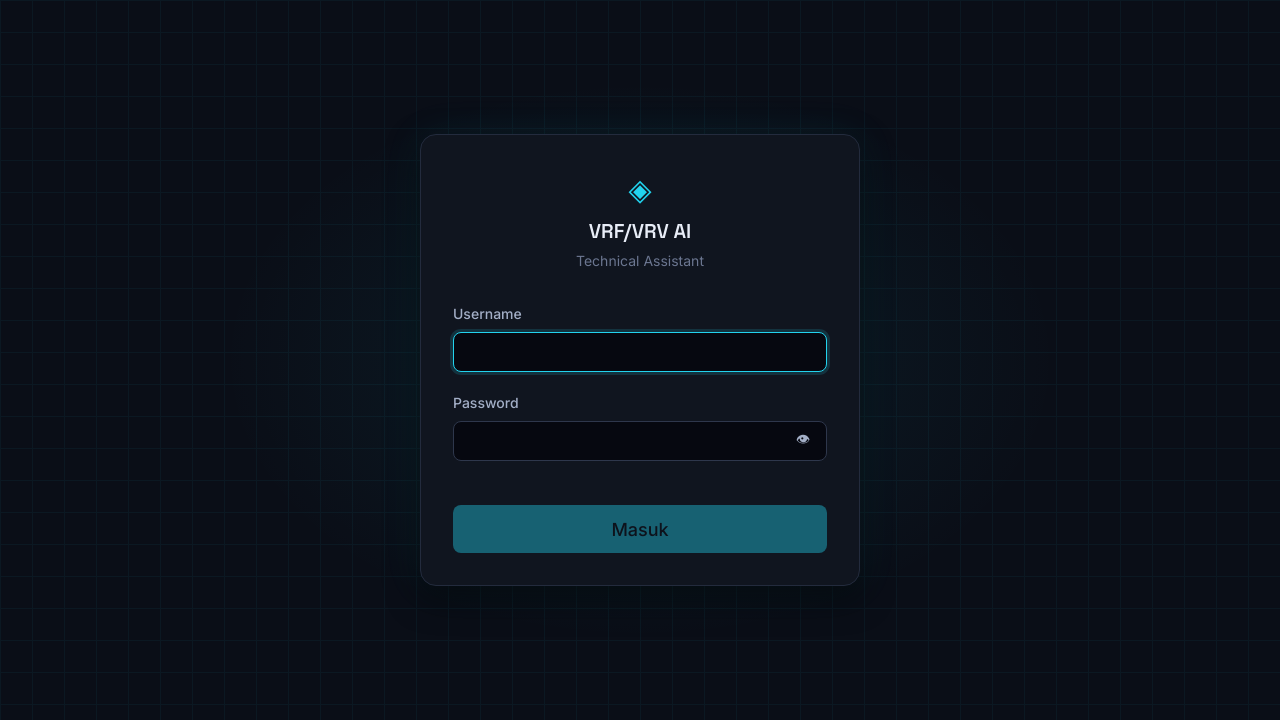
Test: LoginPage › shows the 401 alert, clears the password field, and does not navigate away
Step 1. Type "jalal" into the field labelled "Username" → (640, 352), box [453,332,827,372]
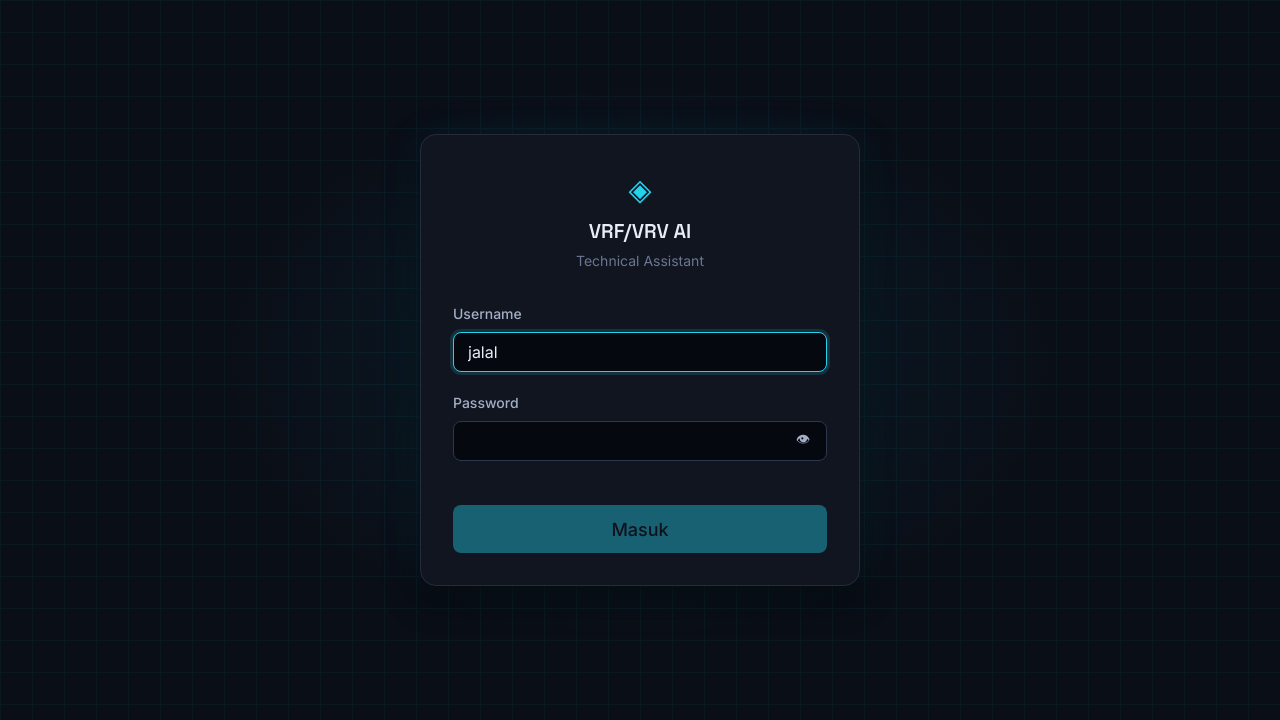
Step 2. Type "wrong-password" into the password field labelled "Password" → (640, 441), box [453,421,827,461]
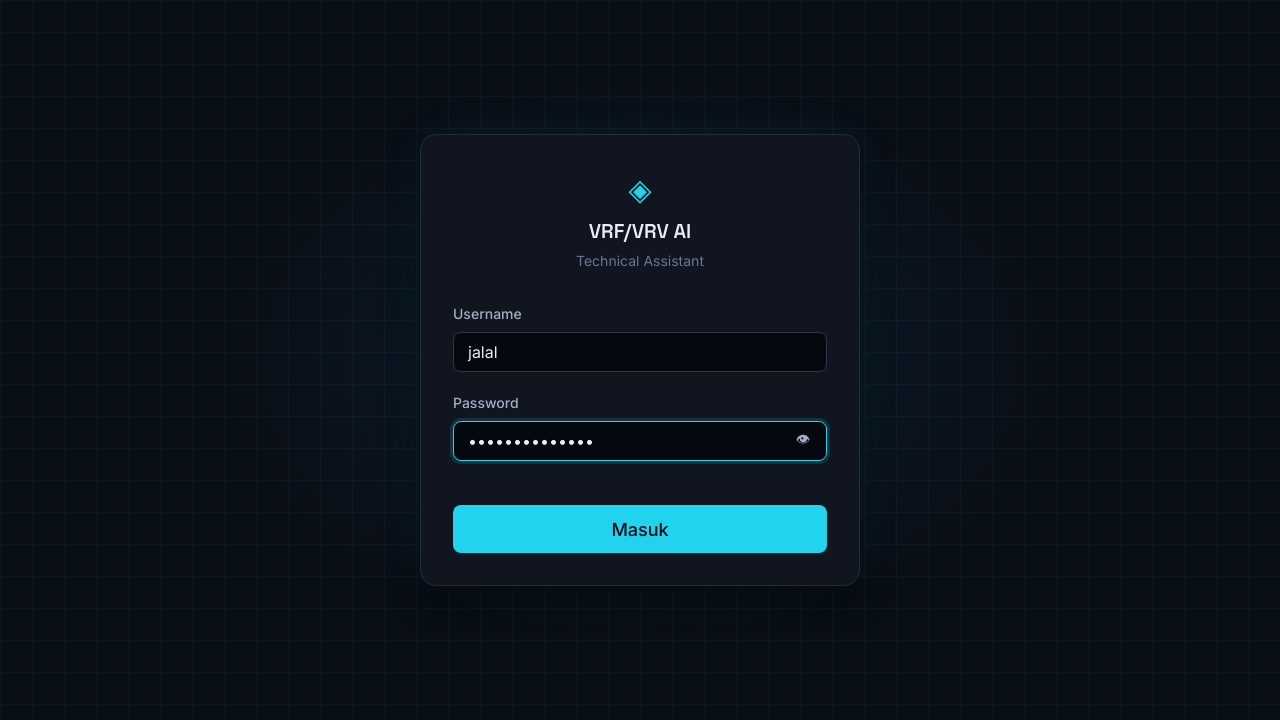
Step 3. Click the button "Masuk" → click(640, 529), box [453,505,827,553]
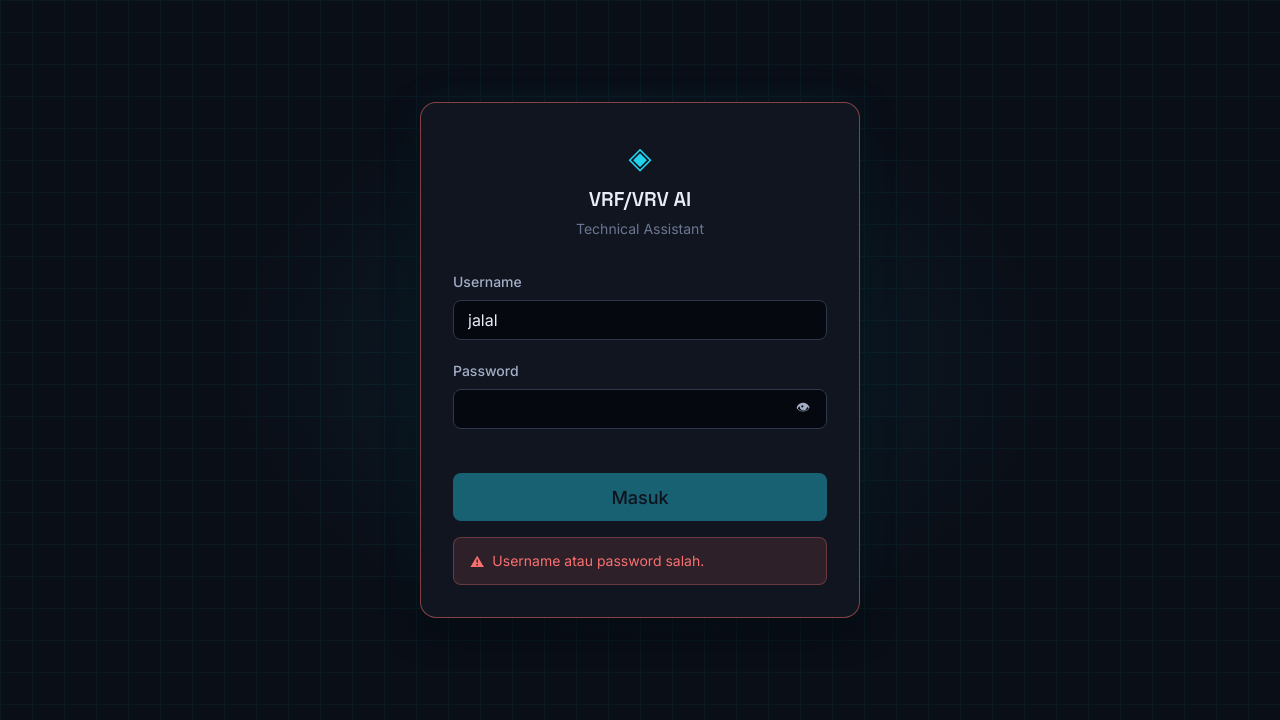
Now the message shows "Username atau password salah.", box [492,552,704,569]
Now the password field labelled "Password" is empty, box [453,389,827,429]
